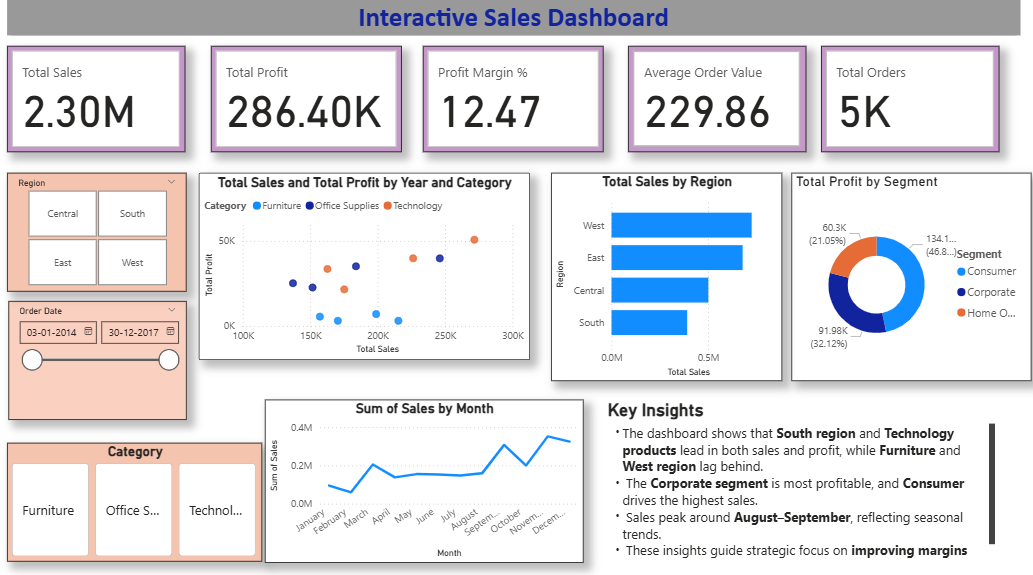

What the dashboard file says about the page in this screenshot:
{"tool":"powerbi","page":{"name":"Dashboard","canvas":[1280,720],"ordinal":2},"visuals":[{"type":"clusteredBarChart","fields":{"Category":["Orders.Region"],"Y":["Orders.Total Sales"]},"box":[681.5,213.7,285.4,257.3],"z":0},{"type":"cardVisual","fields":{"Data":["Orders.Profit Margin %"]},"box":[524,56.1,223,131],"z":2000},{"type":"slicer","fields":{"Values":["Orders.Region"]},"box":[9.4,213.7,221.5,146.6],"z":3000},{"type":"advancedSlicerVisual","fields":{"Values":["Orders.Category"]},"box":[9.4,547.4,315,146.6],"z":4000},{"type":"textbox","title":"Interactive Sales Dashboard","box":[9.4,0,1250.8,43.7],"z":6000},{"type":"lineChart","fields":{"Category":["Orders.Order Date.Variation.Date Hierarchy.Month"],"Y":["Sum(Orders.Sales)"]},"box":[327.5,492.8,393,201.2],"z":8000},{"type":"cardVisual","fields":{"Data":["Orders.Average Order Value"]},"box":[776.7,56.1,219.9,131],"z":8001},{"type":"cardVisual","fields":{"Data":["Orders.Total Sales"]},"box":[9.4,56.1,219.9,131],"z":8002},{"type":"cardVisual","fields":{"Data":["Orders.Total Profit"]},"box":[262,56.1,235.5,131],"z":8003},{"type":"slicer","title":"Order Date","fields":{"Values":["Orders.Order Date"]},"box":[10.9,371.2,219.9,146.6],"z":8005},{"type":"cardVisual","fields":{"Data":["Orders.Total Orders"]},"box":[1015.3,56.1,219.9,131],"z":8006},{"type":"scatterChart","fields":{"X":["Orders.Total Sales"],"Y":["Orders.Total Profit"],"Series":["Orders.Category"],"Category":["Orders.Order Date.Variation.Date Hierarchy.Year","Orders.Order Date.Variation.Date Hierarchy.Quarter","Orders.Order Date.Variation.Date Hierarchy.Month","Orders.Order Date.Variation.Date Hierarchy.Day"]},"box":[246.4,213.7,408.6,230.8],"z":8007},{"type":"donutChart","fields":{"Y":["Orders.Total Profit"],"Category":["Orders.Segment"]},"box":[977.9,213.7,296.3,257.3],"z":8008},{"type":"textbox","title":"Key Insights","box":[747,492.8,488.1,201.2],"z":8009}]}

Visuals, with their boxes in screenshot pixels (x1, y1, x2, y2), scaled from the page's 1280x720 canvas onto the 1033x575 screenshot:
clusteredBarChart - Orders.Region x Orders.Total Sales: 550:171:780:376
cardVisual - Orders.Profit Margin %: 423:45:603:149
slicer - Orders.Region: 8:171:186:288
advancedSlicerVisual - Orders.Category: 8:437:262:554
"Interactive Sales Dashboard" textbox: 8:0:1017:35
lineChart - Orders.Order Date.Variation.Date Hierarchy.Month x Sum(Orders.Sales): 264:394:581:554
cardVisual - Orders.Average Order Value: 627:45:804:149
cardVisual - Orders.Total Sales: 8:45:185:149
cardVisual - Orders.Total Profit: 211:45:401:149
"Order Date" slicer: 9:296:186:414
cardVisual - Orders.Total Orders: 819:45:997:149
scatterChart - Orders.Total Sales x Orders.Total Profit: 199:171:529:355
donutChart - Orders.Total Profit x Orders.Segment: 789:171:1028:376
"Key Insights" textbox: 603:394:997:554
